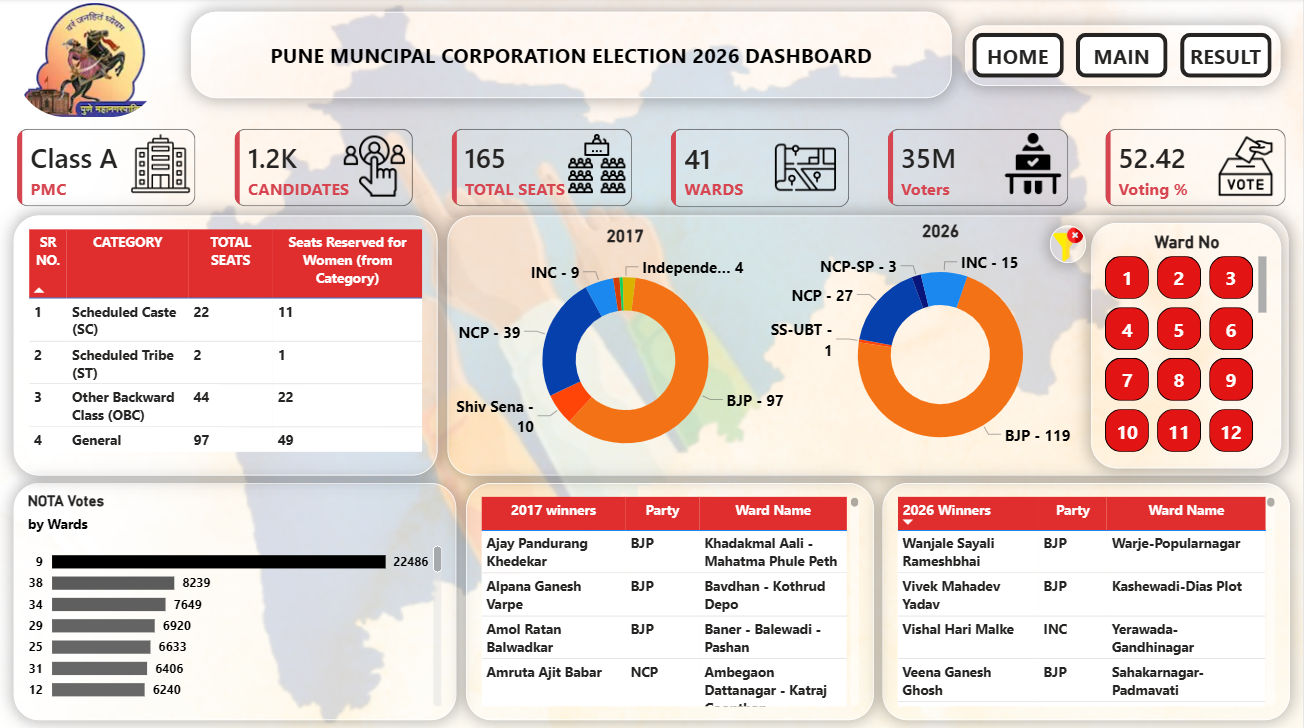

The dashboard page shown, as its layout file describes it:
{"tool":"powerbi","page":{"name":"PUNE","canvas":[1280,720],"ordinal":3},"visuals":[{"type":"shape","box":[439.3,213.5,825.8,255.2],"z":0},{"type":"group","id":"g1","title":"Group 6","box":[0,111.1,1279.8,110.4],"z":1000},{"type":"group","id":"g2","title":"Group 1","box":[642.1,111.1,209.9,110.8],"z":1000,"group":"g1"},{"type":"group","id":"g3","title":"Group 2","box":[1069.9,111.1,209.9,110.8],"z":2000,"group":"g1"},{"type":"clusteredBarChart","fields":{"Category":["PUNE NOTA.Prabhag"],"Y":["Sum(PUNE NOTA.NOTA_Votes)"]},"box":[13.5,476.1,434.4,233.1],"z":2000},{"type":"cardVisual","fields":{"Data":["Min(class.Class)"]},"box":[0,111.1,210,110.8],"z":3000,"group":"g7"},{"type":"group","id":"g4","title":"Group 2","box":[428.1,111.1,209.9,110.8],"z":3000,"group":"g1"},{"type":"tableEx","fields":{"Values":["PUNE SEAT RESERATION.SR NO.","PUNE SEAT RESERATION.CATEGORY","PUNE SEAT RESERATION.TOTAL SEATS","PUNE SEAT RESERATION.Seats Reserved for Wo.4"]},"box":[13.5,213.5,416,255.2],"z":3000},{"type":"cardVisual","fields":{"Data":["Sum(MHSE 2026 data.NO OFCONTESTINGCANDIDATES)"]},"box":[214,111.1,209.9,110.8],"z":4000,"group":"g6"},{"type":"cardVisual","fields":{"Data":["Sum(MH_state_election_26.NO OFWARDS)"]},"box":[642.1,111.1,210,111.6],"z":4000,"group":"g2"},{"type":"group","id":"g5","title":"Group 2","box":[856.1,111.1,209.9,110.8],"z":4000,"group":"g1"},{"type":"image","box":[127.6,132.3,60,60.1],"z":4000,"group":"g7"},{"type":"donutChart","title":"2026","fields":{"Y":["Sum(2026.BJP)","Sum(2026.SS-UBT)","Sum(2026.NCP)","Sum(2026.NCP-SP)","Sum(2026.INC)"]},"box":[731.3,209.8,389,251.5],"z":4000},{"type":"group","id":"g6","title":"Group 3","box":[214,111.1,209.9,110.8],"z":5000,"group":"g1"},{"type":"cardVisual","fields":{"Data":["Sum(MH_state_election_26.TOTALSEATS)"]},"box":[428.1,111.1,210,110.8],"z":5000,"group":"g4"},{"type":"cardVisual","fields":{"Data":["Sum(Voters Data.Total Registered Voters)"]},"box":[856.1,111.1,210,110.8],"z":5000,"group":"g5"},{"type":"cardVisual","fields":{"Data":["Avg(MH_state_election_26.Voting_%_2026)"]},"box":[1069.9,111.1,209.9,110.8],"z":5000,"group":"g3"},{"type":"donutChart","title":"2017","fields":{"Y":["Sum(2017.BJP)","Sum(2017.Shiv Sena)","Sum(2017.NCP)","Sum(2017.INC)","Sum(2017.MNS)","Sum(2017.AIMIM)","Sum(2017.Independent)"]},"box":[416,214.7,390.2,252.8],"z":5000},{"type":"group","id":"g7","title":"Group 4","box":[0,111.1,209.9,110.8],"z":6000,"group":"g1"},{"type":"image","box":[555.2,132.3,60.4,60.1],"z":6000,"group":"g4"},{"type":"image","box":[983.2,132.3,60.4,60.1],"z":6000,"group":"g5"},{"type":"image","box":[1192,134.7,60.4,60.1],"z":6000,"group":"g3"},{"type":"advancedSlicerVisual","fields":{"Values":["2017.Ward No"]},"box":[1071.2,220.9,186.5,240.5],"z":6000},{"type":"image","box":[756.3,136.1,70,60.1],"z":6002,"group":"g2"},{"type":"image","box":[14.7,4.9,143.6,111.7],"z":7000},{"type":"image","box":[337.5,134.7,60.4,60.1],"z":7000,"group":"g6"},{"type":"image","box":[1030.7,223.3,35.6,36.8],"z":8000},{"type":"tableEx","fields":{"Values":["Sheet2.Winner","Sheet2.Party","Sheet2.Ward Name"]},"box":[866.3,476.1,400,233.1],"z":9000},{"type":"tableEx","fields":{"Values":["2017 winner list.Name","2017 winner list.Party","2017 winner list.Ward Name"]},"box":[457.7,476.1,400,233.1],"z":10000},{"type":"pageNavigator","box":[947.2,27,309.2,58.9],"z":11000},{"type":"shape","box":[187.7,13.5,746,84.7],"z":12000}]}

Visuals, with their boxes in screenshot pixels (x1, y1, x2, y2), scaled from the page's 1280x720 canvas onto the 1304x728 screenshot:
shape: [left=448, top=216, right=1289, bottom=474]
"Group 6" group: [left=0, top=112, right=1303, bottom=224]
"Group 1" group: [left=654, top=112, right=868, bottom=224]
"Group 2" group: [left=1090, top=112, right=1303, bottom=224]
clusteredBarChart - PUNE NOTA.Prabhag x Sum(PUNE NOTA.NOTA_Votes): [left=14, top=481, right=456, bottom=717]
cardVisual - Min(class.Class): [left=0, top=112, right=214, bottom=224]
"Group 2" group: [left=436, top=112, right=650, bottom=224]
tableEx - PUNE SEAT RESERATION.SR NO. x PUNE SEAT RESERATION.CATEGORY: [left=14, top=216, right=438, bottom=474]
cardVisual - Sum(MHSE 2026 data.NO OFCONTESTINGCANDIDATES): [left=218, top=112, right=432, bottom=224]
cardVisual - Sum(MH_state_election_26.NO OFWARDS): [left=654, top=112, right=868, bottom=225]
"Group 2" group: [left=872, top=112, right=1086, bottom=224]
image: [left=130, top=134, right=191, bottom=195]
"2026" donutChart: [left=745, top=212, right=1141, bottom=466]
"Group 3" group: [left=218, top=112, right=432, bottom=224]
cardVisual - Sum(MH_state_election_26.TOTALSEATS): [left=436, top=112, right=650, bottom=224]
cardVisual - Sum(Voters Data.Total Registered Voters): [left=872, top=112, right=1086, bottom=224]
cardVisual - Avg(MH_state_election_26.Voting_%_2026): [left=1090, top=112, right=1303, bottom=224]
"2017" donutChart: [left=424, top=217, right=821, bottom=473]
"Group 4" group: [left=0, top=112, right=214, bottom=224]
image: [left=566, top=134, right=627, bottom=195]
image: [left=1002, top=134, right=1063, bottom=195]
image: [left=1214, top=136, right=1276, bottom=197]
advancedSlicerVisual - 2017.Ward No: [left=1091, top=223, right=1281, bottom=467]
image: [left=770, top=138, right=842, bottom=198]
image: [left=15, top=5, right=161, bottom=118]
image: [left=344, top=136, right=405, bottom=197]
image: [left=1050, top=226, right=1086, bottom=263]
tableEx - Sheet2.Winner x Sheet2.Party: [left=883, top=481, right=1290, bottom=717]
tableEx - 2017 winner list.Name x 2017 winner list.Party: [left=466, top=481, right=874, bottom=717]
pageNavigator: [left=965, top=27, right=1280, bottom=87]
shape: [left=191, top=14, right=951, bottom=99]
